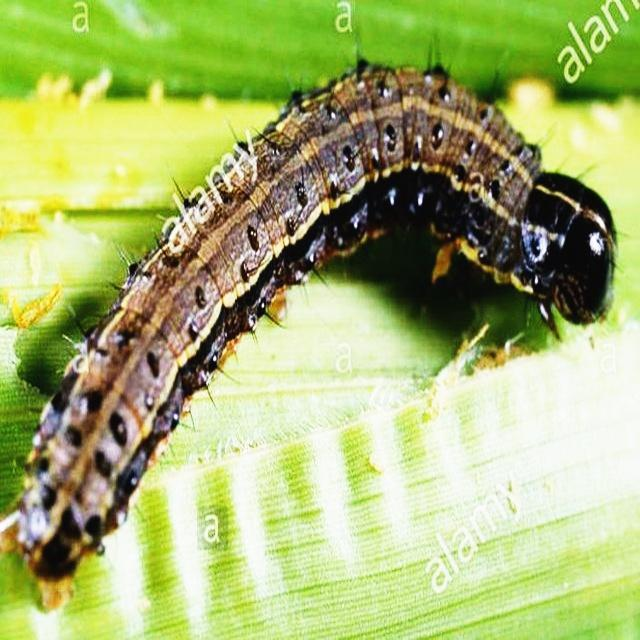worm: (1, 36, 622, 614)
